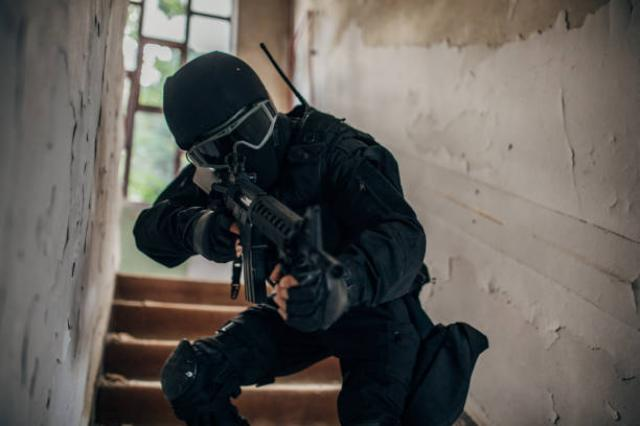other: (173, 61, 429, 381)
